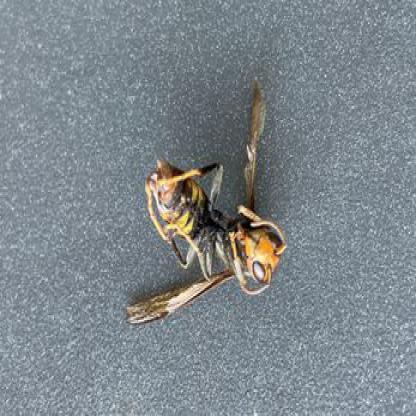Asian Hornet: (126, 75, 296, 330)
